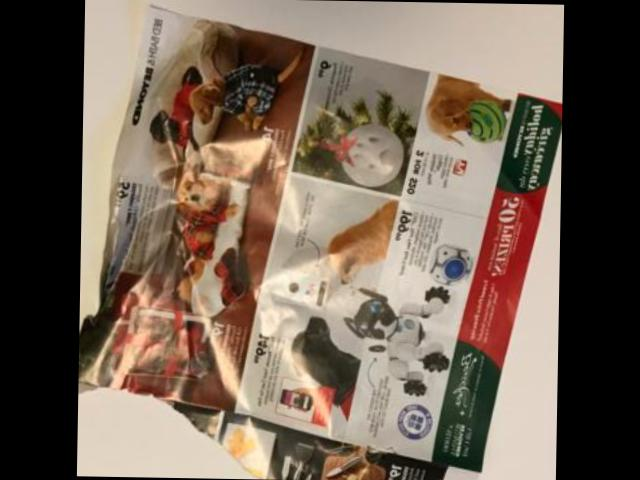cardboard paper: (77, 9, 562, 480)
